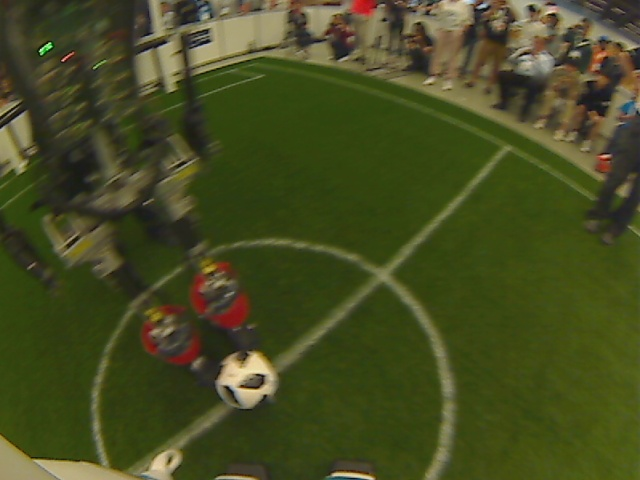ball: (213, 347, 282, 412)
